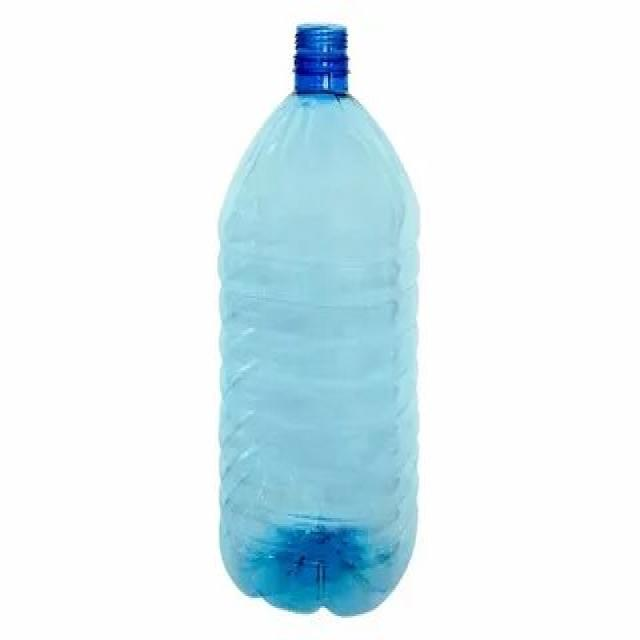blue: (215, 23, 419, 615)
